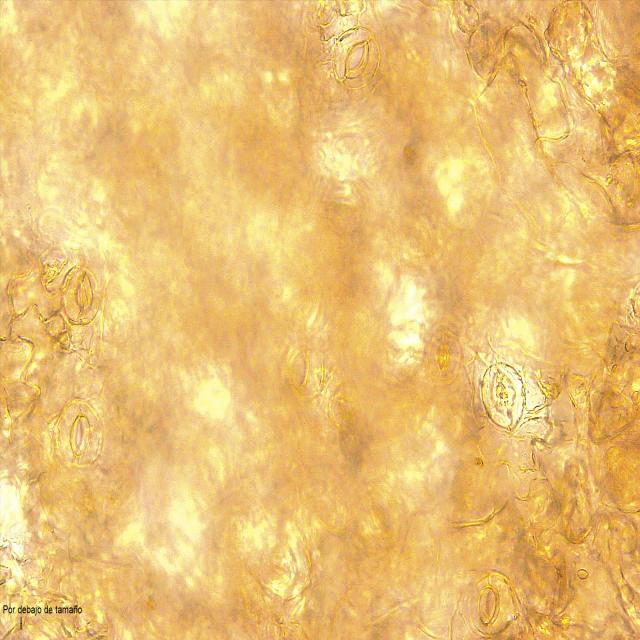Stomata: (57, 398, 105, 468), (465, 572, 516, 637), (332, 26, 382, 91), (481, 362, 527, 432), (278, 338, 324, 399), (61, 264, 102, 328), (424, 325, 462, 384)
